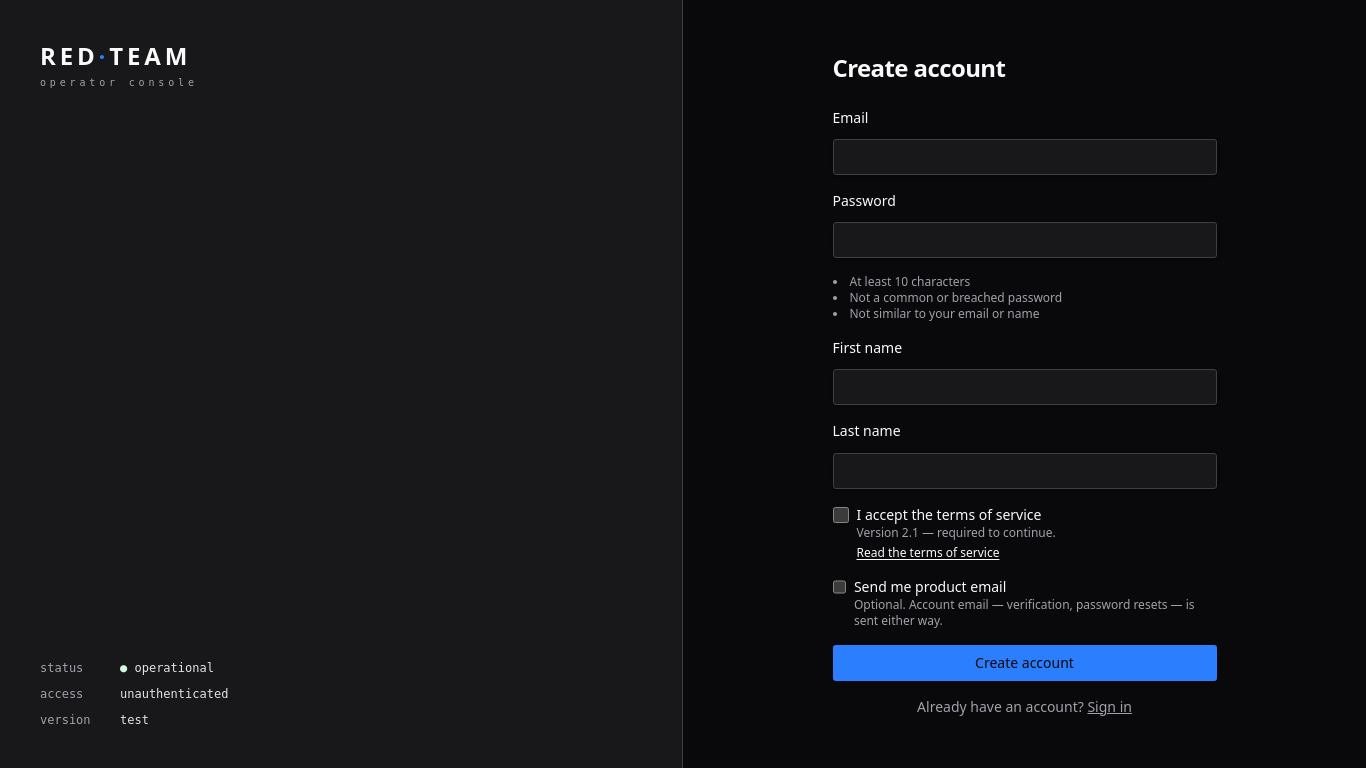
Test: RegisterPage — terms consent › shows the version and opens the full text in a dialog
Expected: the text "Version 2.1 — required to continue." is shown, [856, 524, 1056, 540]
Step 1. Click the button "Read the terms of service" → (928, 552), box [856, 544, 1000, 560]
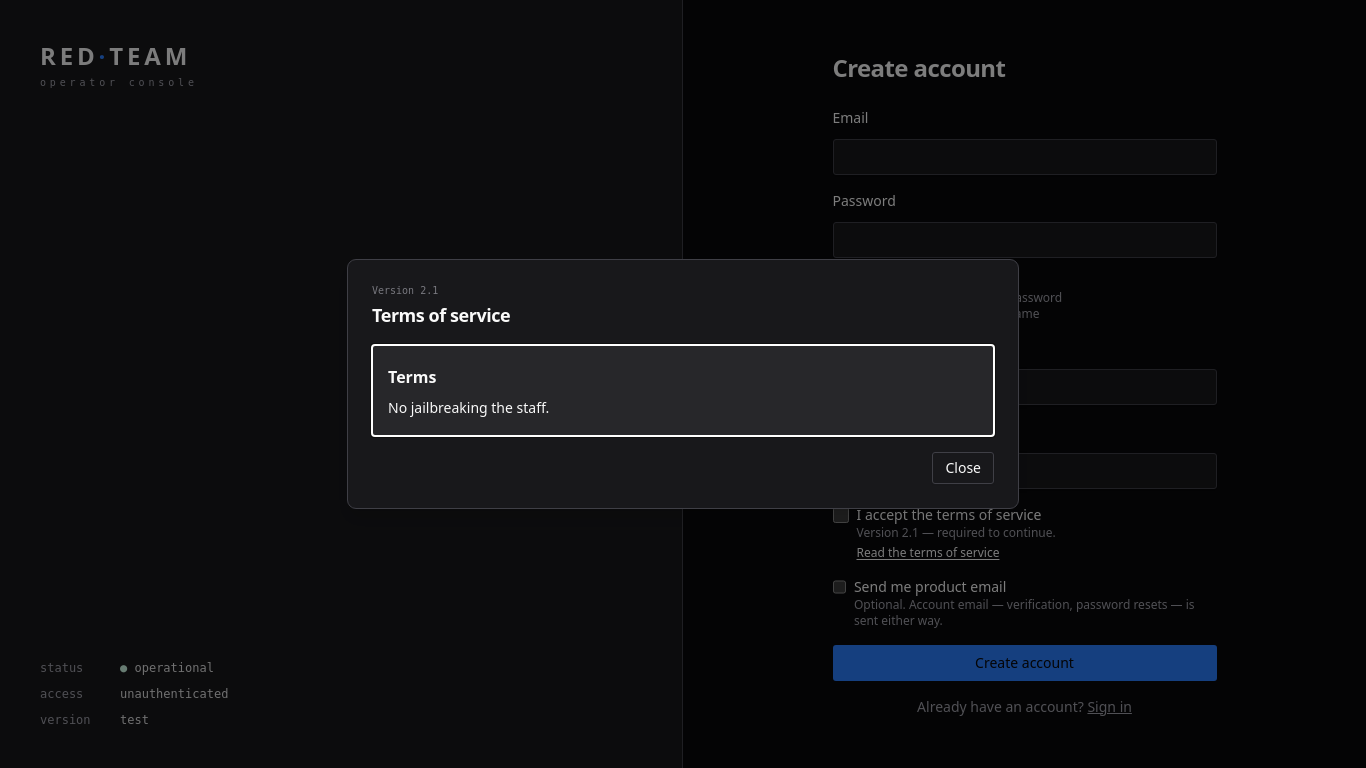
Result: the element named "Terms of service, version 2.1" shows "No jailbreaking the staff" at [388, 398, 549, 417]
